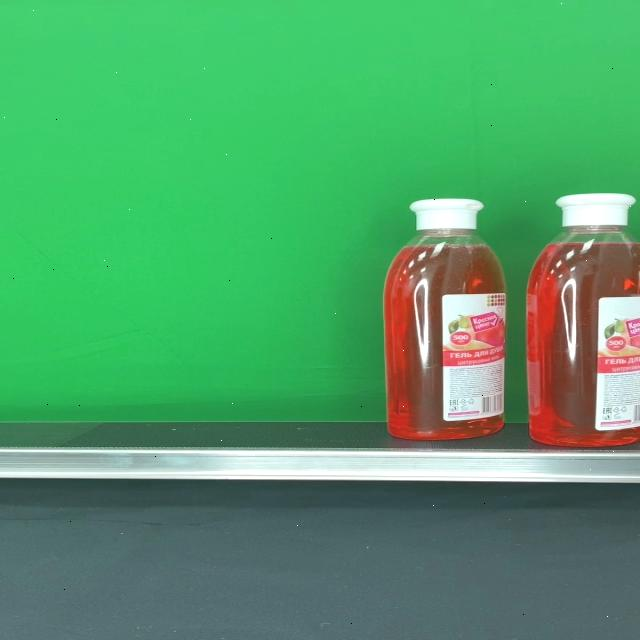Bottle: (382, 199, 507, 439), (526, 193, 640, 447)
Cap: (556, 194, 634, 227), (409, 200, 483, 230)
